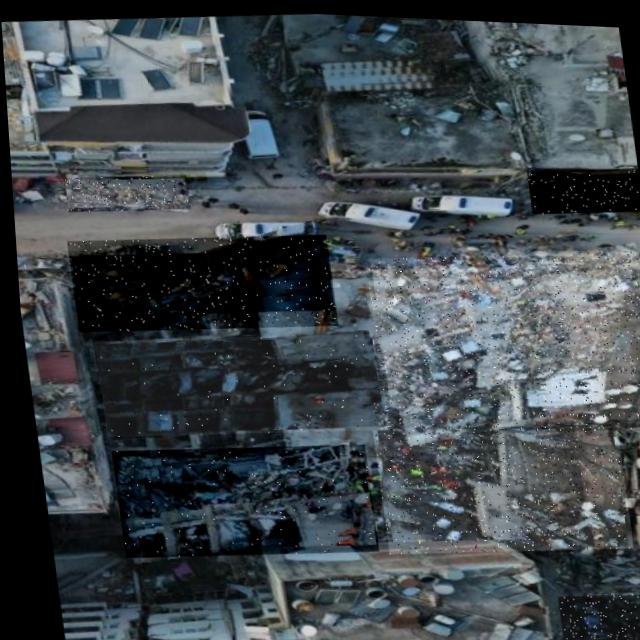Rubble: (359, 234, 640, 441), (363, 397, 626, 559), (87, 320, 379, 445), (102, 432, 371, 566), (61, 222, 334, 341), (523, 158, 640, 213), (59, 168, 187, 216), (547, 580, 640, 640)
